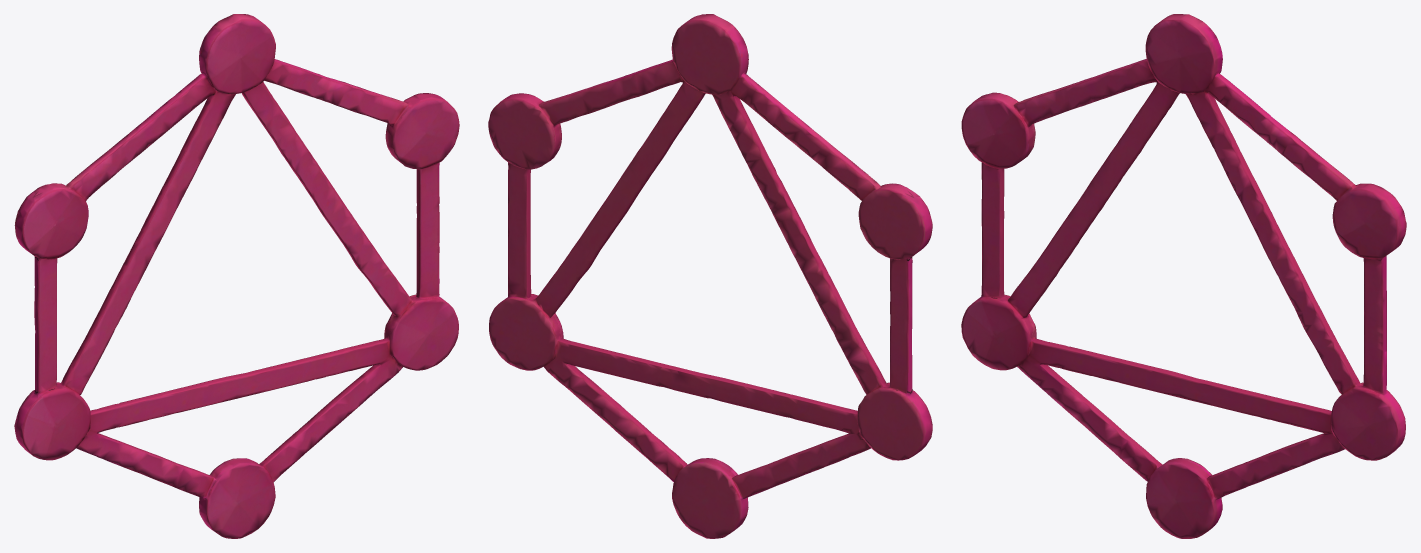
File: graphql-transformed.glb
3 views of the same model, side by side, from view 1: azimuth 30°, elevation 25°; view 2: azimuth 150°, elevation 25°; view 3: azimuth 330°, elevation 25° (orthographic).
Size of the model in its own units: 1.75 by 1.99 by 0.0582.
1 material, 1 textured.
